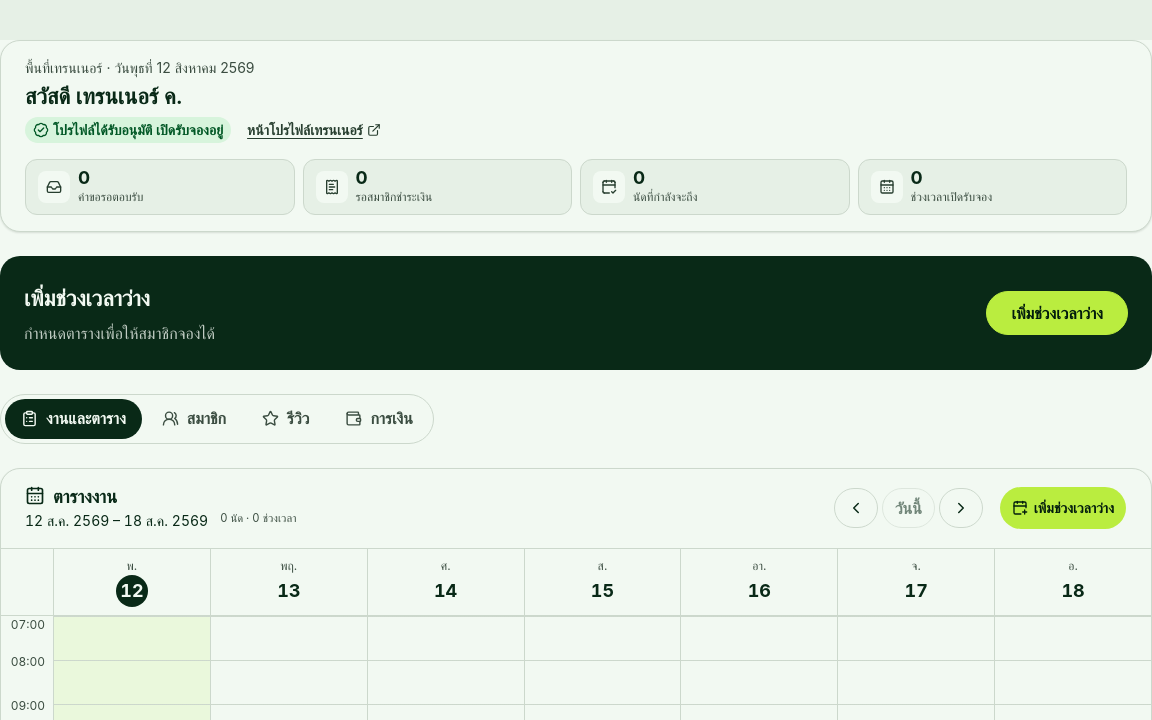
Test: TrainerWorkbench › opens the availability popup directly from the workspace toolbar
Click the button "เพิ่มช่วงเวลาว่าง". click: (1063, 508)
box: [999, 486, 1127, 530]
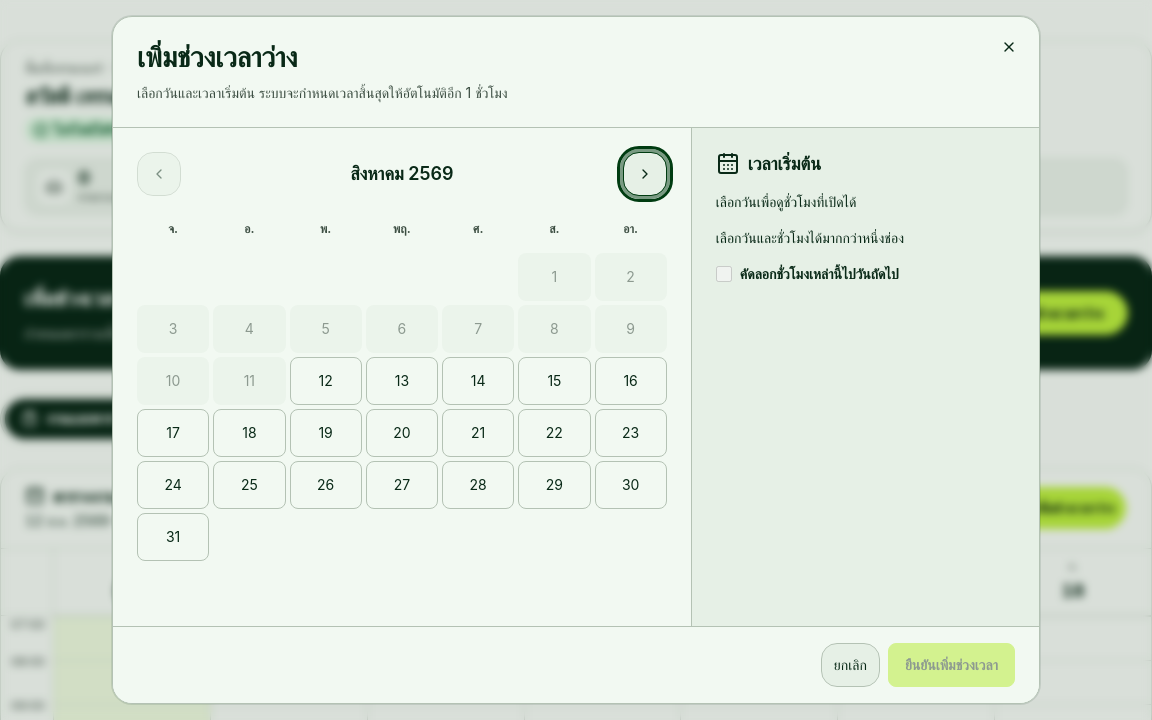
Expected: the dialog "เพิ่มช่วงเวลาว่าง" is shown
